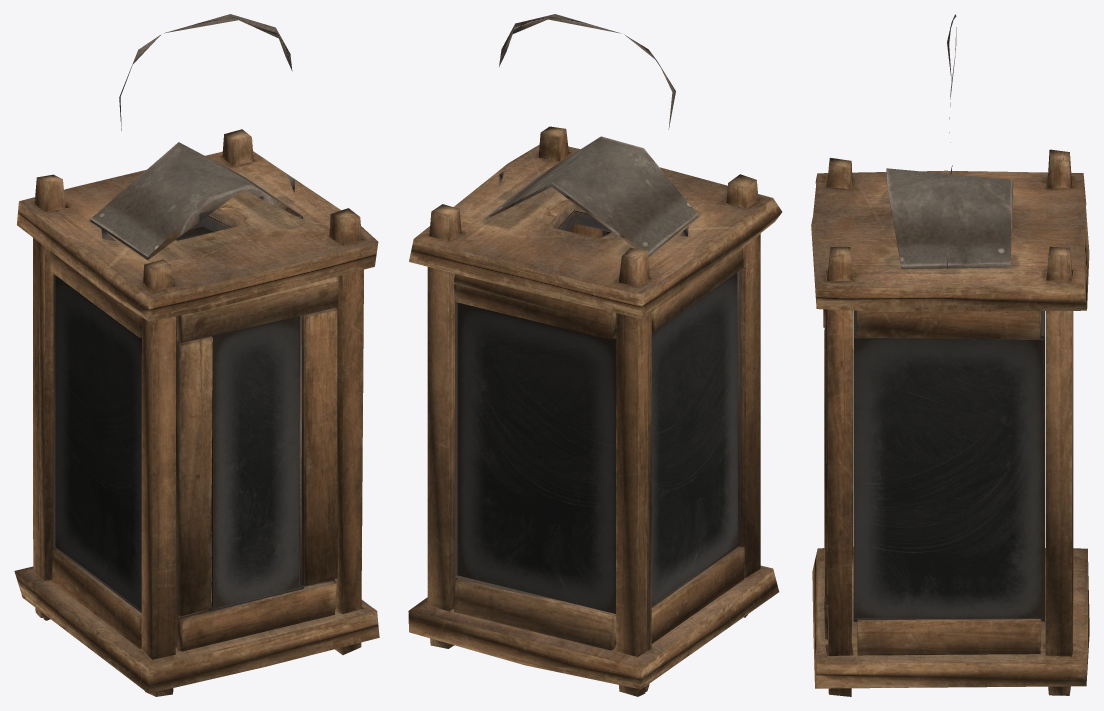
File: lantern-lod.glb
3 views of the same model, side by side, from view 1: azimuth 30°, elevation 25°; view 2: azimuth 150°, elevation 25°; view 3: azimuth 270°, elevation 25° (orthographic).
Parts seen in each view (by area): view 1: wooden_lantern_01, wooden_lantern_01_door, wooden_lantern_01_handle; view 2: wooden_lantern_01, wooden_lantern_01_handle; view 3: wooden_lantern_01, wooden_lantern_01_door.
Part boxes in pixels (x1,y1,x2,y2): wooden_lantern_01: [14, 129, 379, 696]; wooden_lantern_01_door: [175, 276, 338, 651]; wooden_lantern_01_handle: [101, 14, 294, 240]; wooden_lantern_01: [408, 126, 782, 696]; wooden_lantern_01_handle: [499, 14, 688, 236]; wooden_lantern_01: [811, 149, 1089, 696]; wooden_lantern_01_door: [823, 309, 827, 639].
Bounding box in the file's own units: 0.218 × 0.5249 × 0.2146.
Materials: 2 (2 with a texture image).
